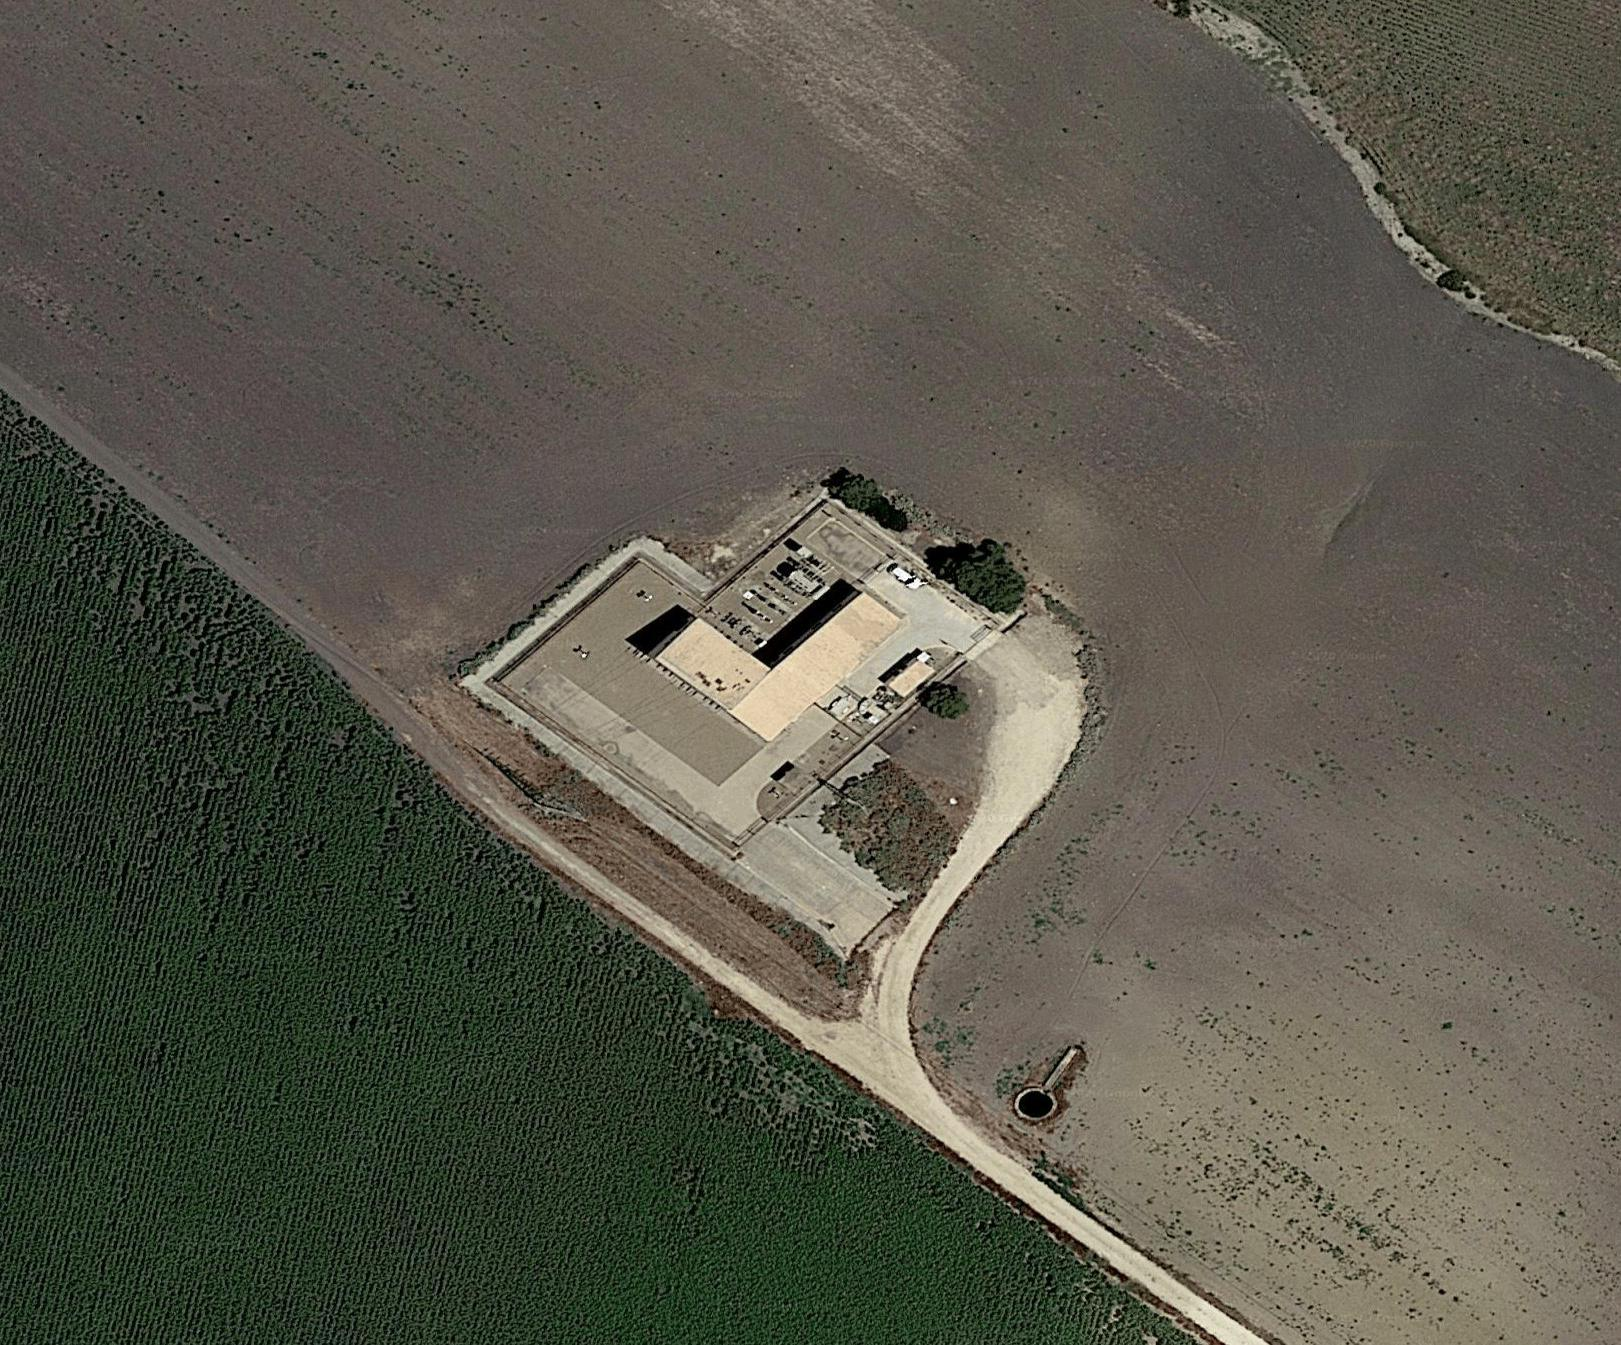substation: (707, 534, 839, 654)
